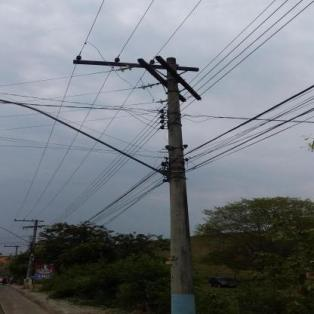Poste: (159, 52, 200, 314)
